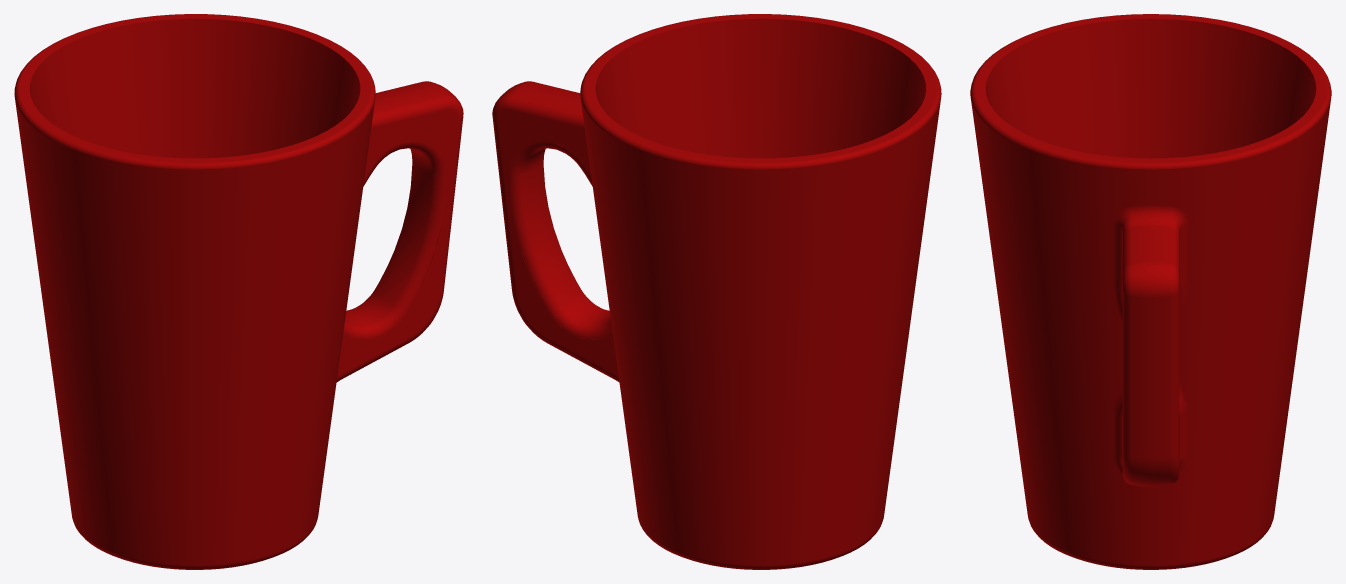
Rendered from CM-MUG032.glb.
3 renders of one model, left to right at view 1: azimuth 30°, elevation 25°; view 2: azimuth 150°, elevation 25°; view 3: azimuth 270°, elevation 25°, orthographic.
Size of the model in its own units: 0.0945 by 0.0948 by 0.071.
